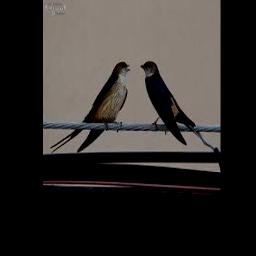Swallow: (49, 62, 130, 152), (140, 61, 214, 150)
